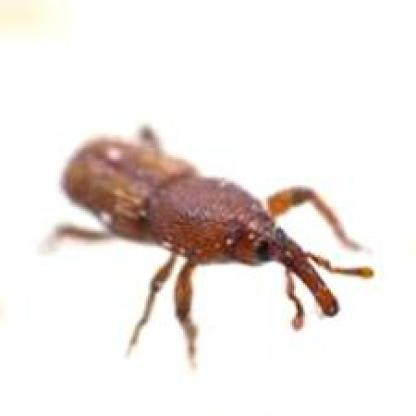rice-bug: (61, 134, 344, 330)
